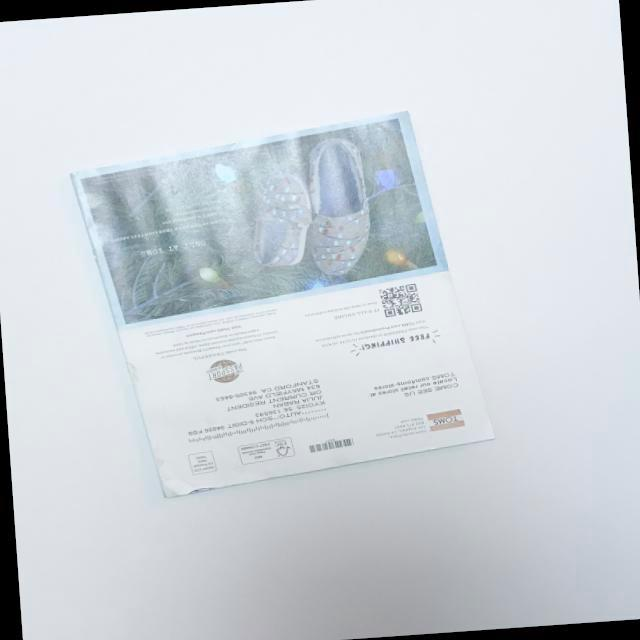paper: (67, 102, 500, 504)
